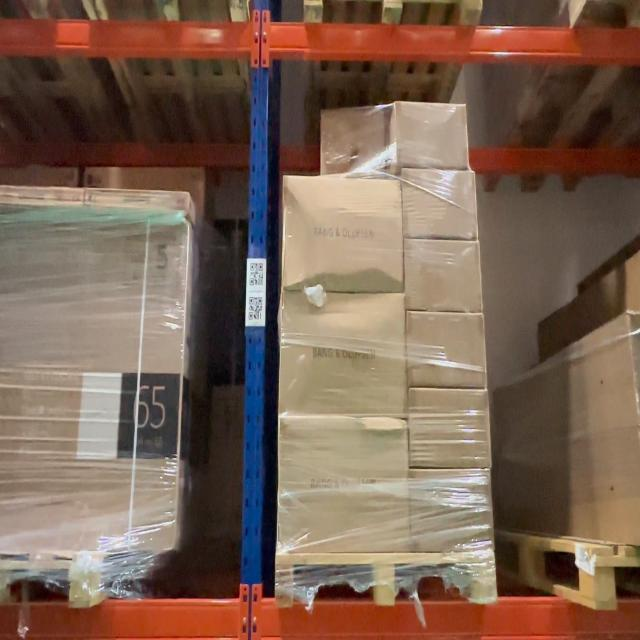box: (0, 208, 179, 545), (278, 418, 408, 552), (280, 295, 404, 415), (283, 180, 400, 288), (414, 472, 492, 552), (412, 391, 490, 468), (408, 315, 484, 385), (407, 242, 479, 310), (405, 173, 475, 237), (321, 111, 388, 174), (400, 104, 468, 166)
